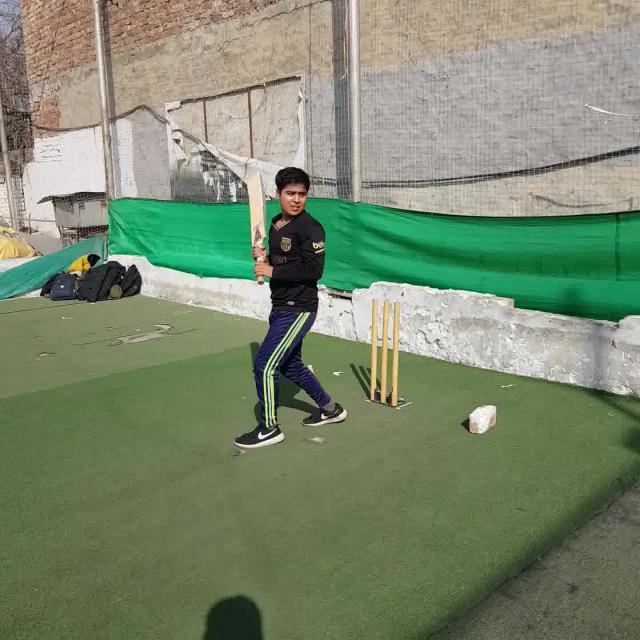bat: (245, 172, 267, 286)
